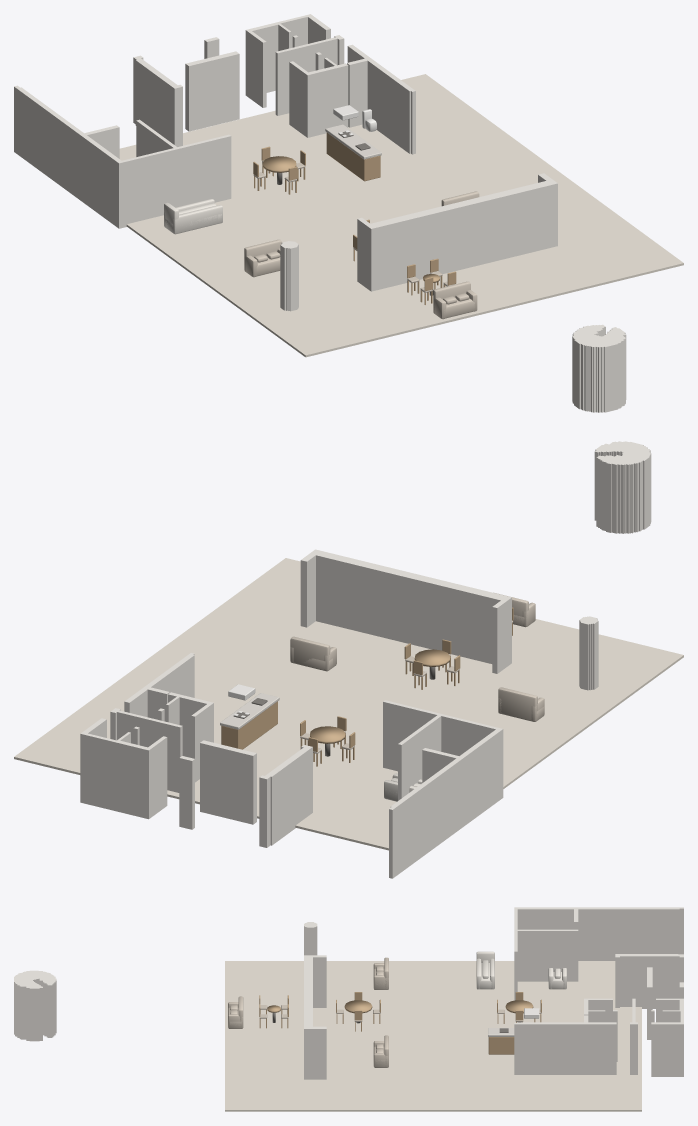
The model's file is alheli-tc.glb.
3 views of the same model, one above another, from view 1: azimuth 30°, elevation 25°; view 2: azimuth 150°, elevation 25°; view 3: azimuth 270°, elevation 25° (orthographic). The views are drawn at different scales.
Visible parts, largest first — view 1: floor_salon, walls, body, arm.002, top.001; view 2: walls, floor_salon, body, back.006, back.007, top.001; view 3: floor_salon, walls, body.
Boxes of the visible parts, bbox=[...] form: floor_salon: bbox=[119, 74, 683, 357]; walls: bbox=[14, 14, 626, 412]; body: bbox=[326, 132, 380, 181]; arm.002: bbox=[172, 205, 222, 234]; top.001: bbox=[325, 124, 381, 159]; walls: bbox=[80, 441, 651, 878]; floor_salon: bbox=[14, 558, 683, 850]; body: bbox=[221, 701, 277, 749]; back.006: bbox=[498, 687, 537, 721]; back.007: bbox=[290, 636, 330, 670]; top.001: bbox=[220, 693, 279, 729]; floor_salon: bbox=[225, 961, 641, 1111]; walls: bbox=[14, 907, 683, 1079]; body: bbox=[488, 1037, 514, 1054].
Bounding box in the file's own units: 234 × 38 × 437.
